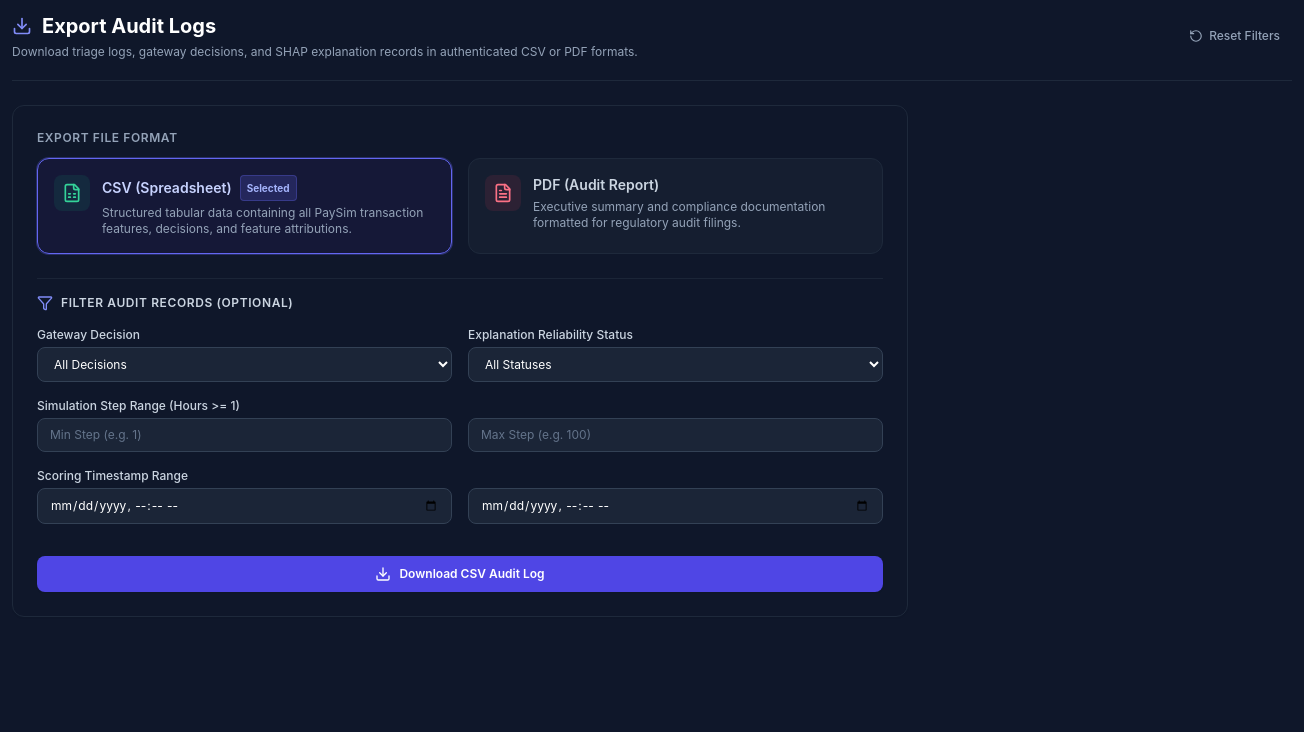
it: ExportView Page › submits valid export request and triggers file download
Click the radio button with test id "format-option-pdf". click: x=676, y=206
box: x1=468 y1=158 x2=883 y2=254
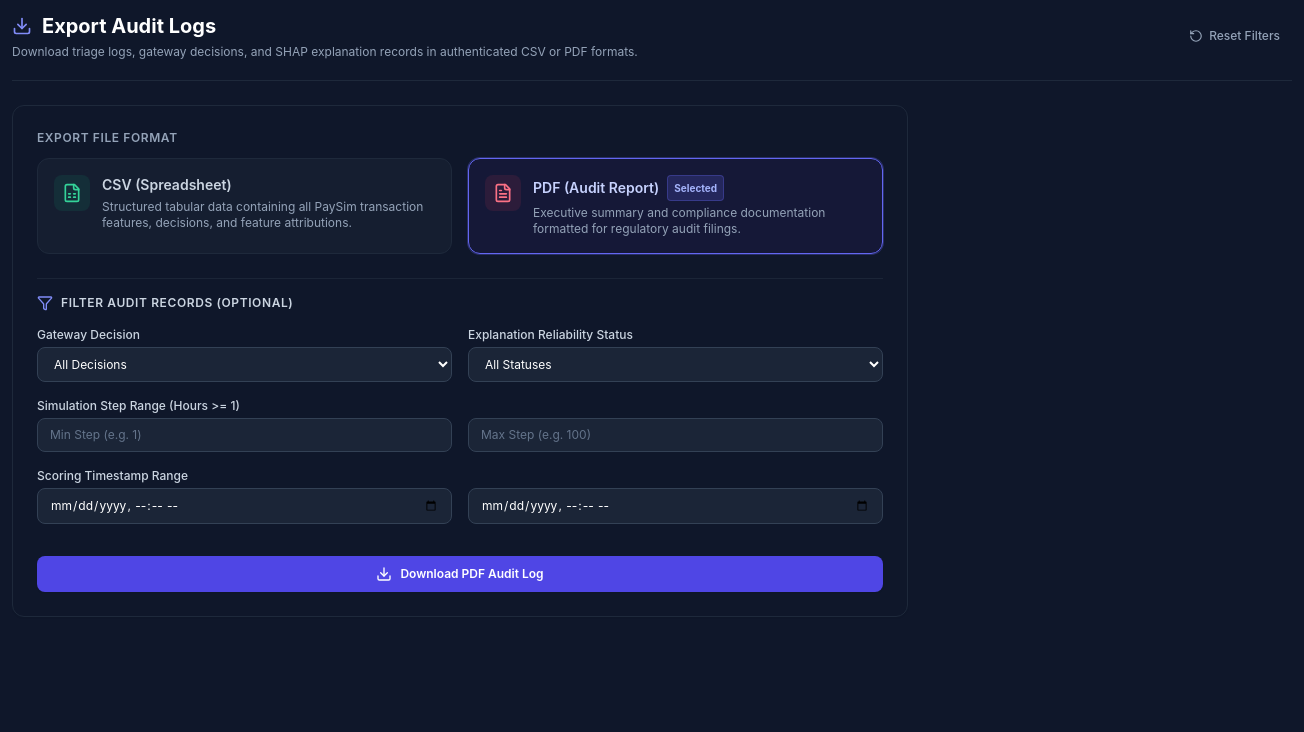
Select "High Risk" in the dropdown labelled "Gateway Decision". click: x=244, y=364
box: x1=37 y1=347 x2=452 y2=382
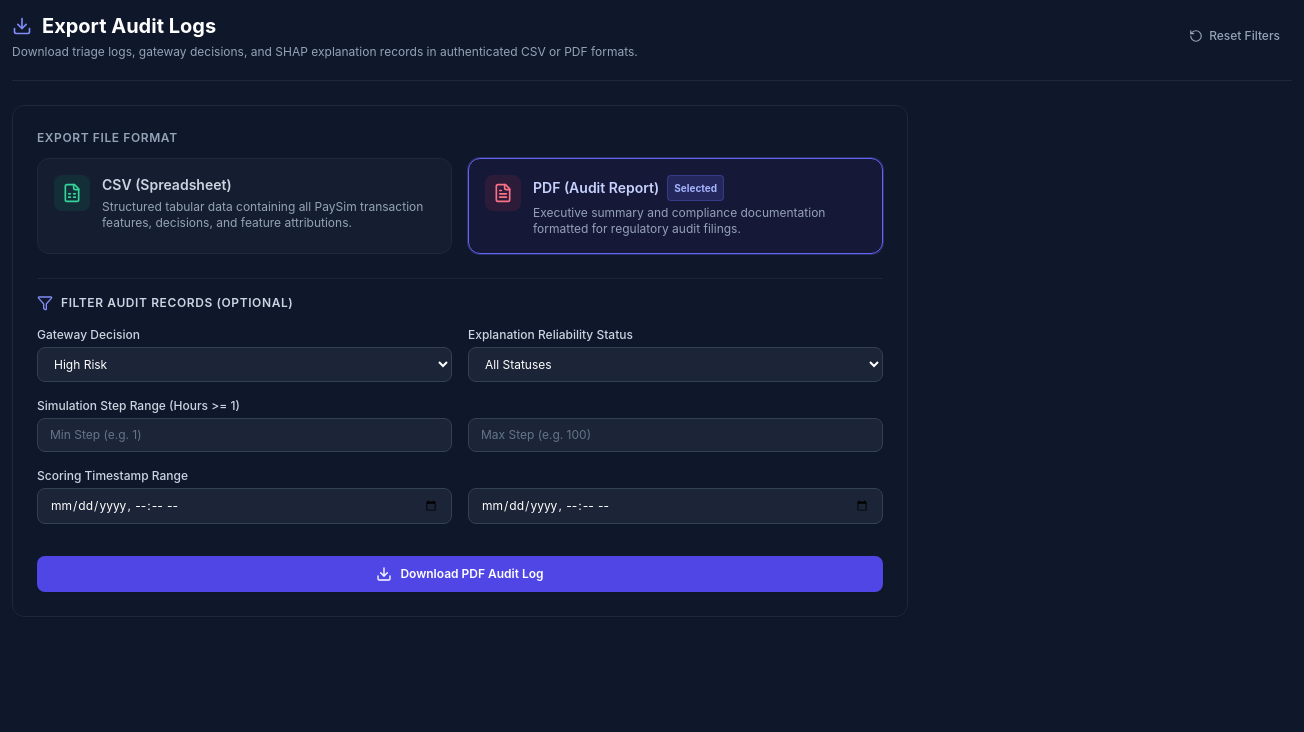
Type "5" into the number field named "minimum step filter". click: x=244, y=435
box: x1=37 y1=418 x2=452 y2=452
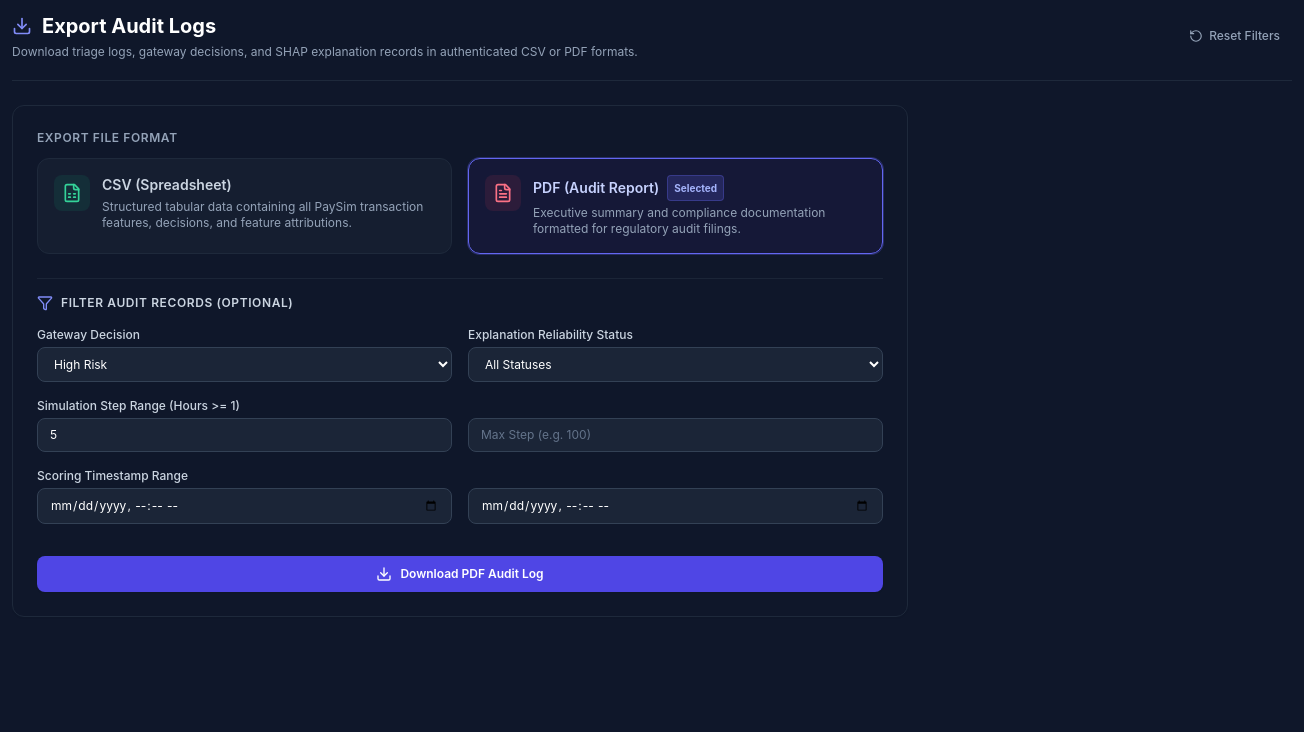
Click the button with test id "download-export-button". click: x=460, y=574
box: x1=37 y1=556 x2=883 y2=592
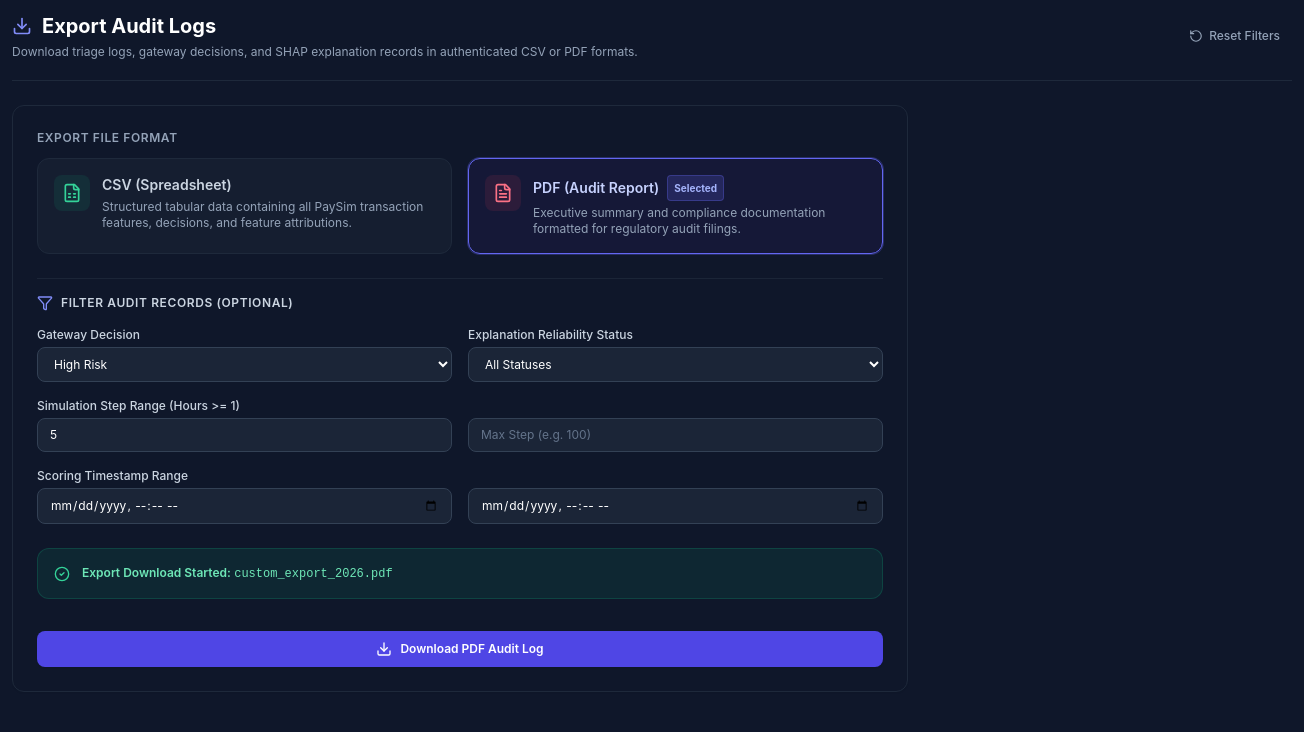
Expected: the element with test id "export-success-banner" is shown, x1=37 y1=548 x2=883 y2=599
Expected: the text "custom_export_2026.pdf" is shown, x1=234 y1=567 x2=393 y2=581
